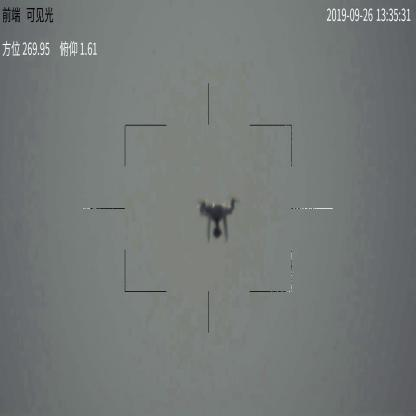uav: (194, 197, 240, 242)
